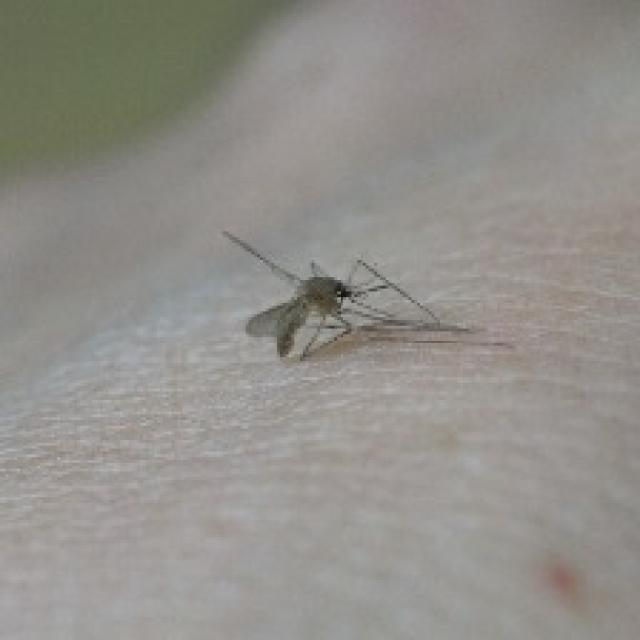culex: (220, 226, 440, 360)
